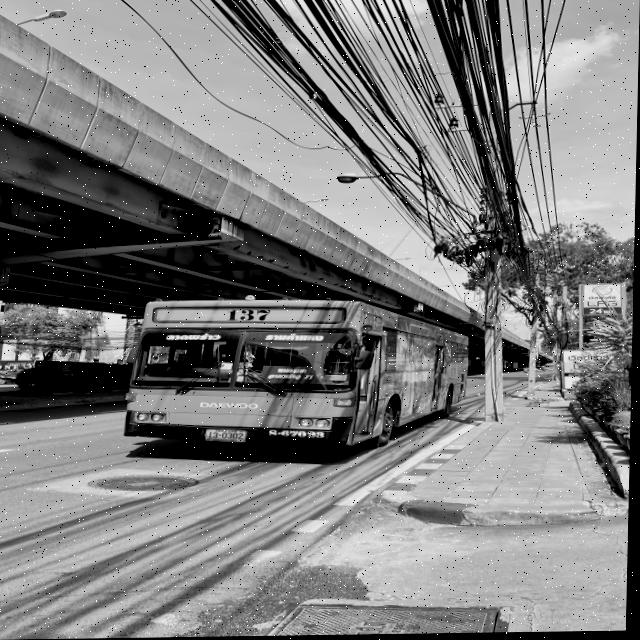BMTA-bus: (125, 298, 472, 454)
Bus-Line-Number: (221, 307, 279, 325)
Destination-Sign-Extra-Bus: (265, 364, 325, 387)
